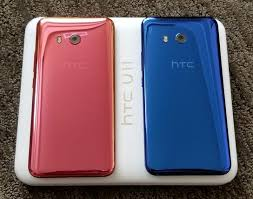htc: (138, 14, 233, 177), (31, 17, 117, 181)
